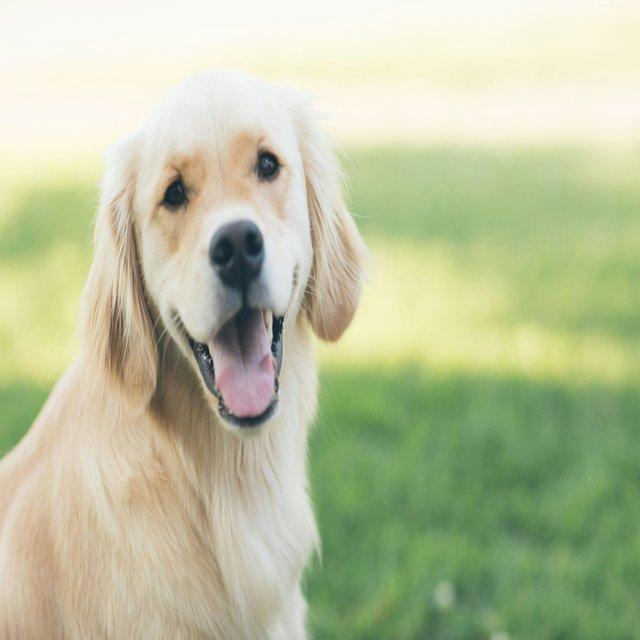retriever: (0, 68, 369, 639)
